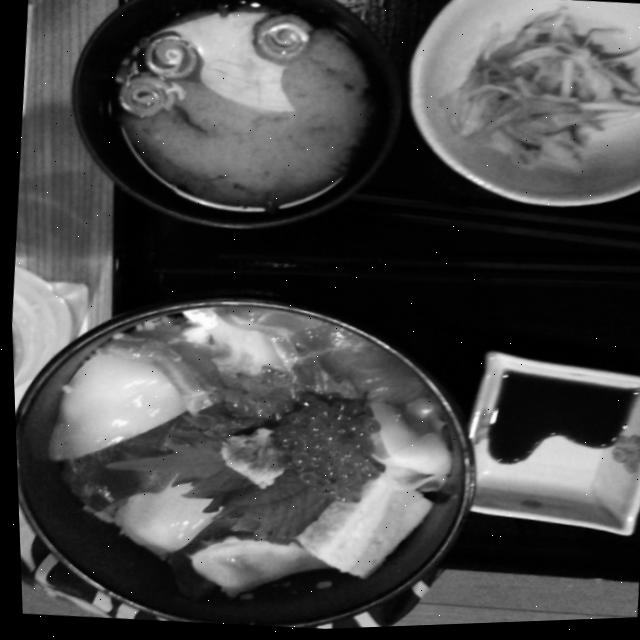刺身生食: (8, 272, 466, 632)
汤锅炖物: (86, 0, 413, 229)
蔬菜料理: (415, 0, 640, 198)
